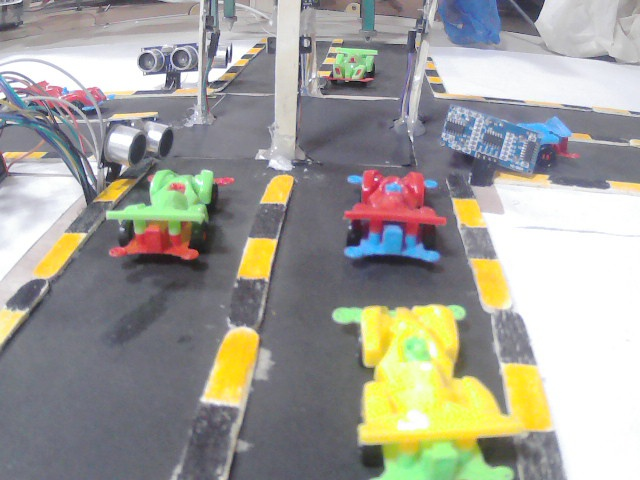car: (334, 308, 503, 477), (106, 168, 233, 264), (359, 168, 425, 271), (23, 75, 116, 115), (513, 111, 574, 166), (335, 42, 376, 87)
uno_breadboard: (446, 103, 541, 174), (101, 122, 161, 172), (135, 43, 193, 76), (202, 44, 240, 75)
